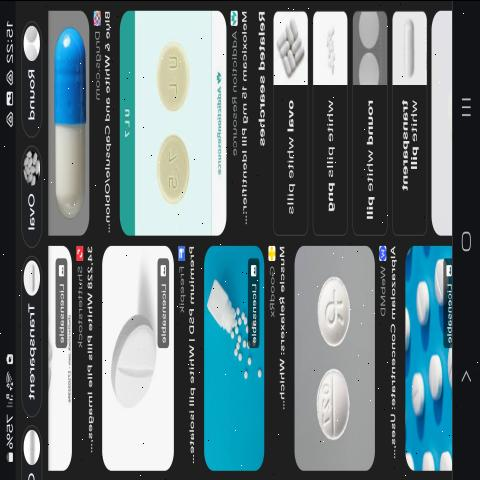Pill: (51, 20, 95, 232), (107, 304, 158, 420), (302, 362, 359, 454), (145, 40, 196, 136), (150, 120, 196, 222), (306, 267, 360, 351), (427, 342, 445, 409), (412, 280, 433, 333), (406, 366, 426, 419)
